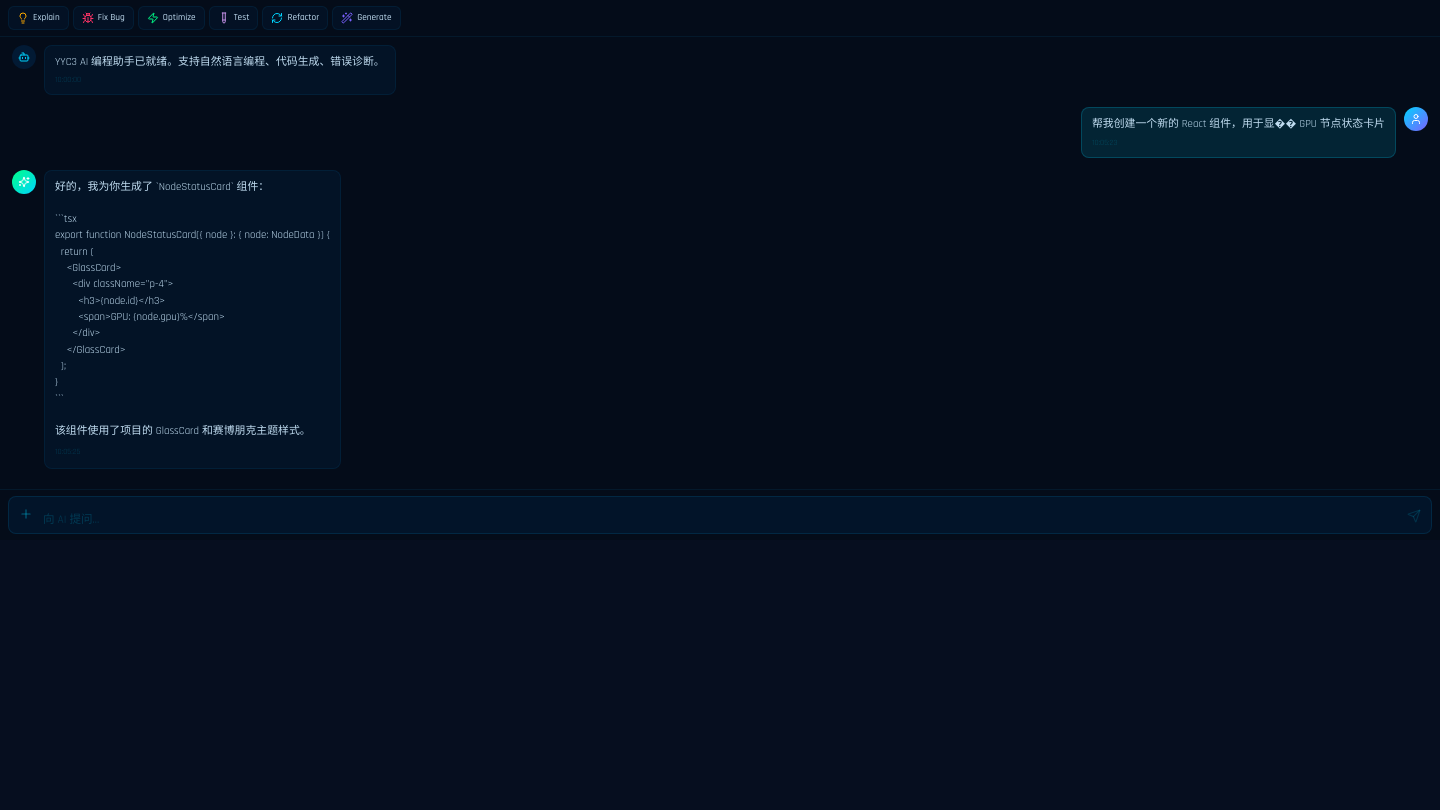
Test case: AIChatPanel › 发送消息 › Enter 发送用户消息并清空输入
In the text box with placeholder "向 AI 提问...": (720, 520) left=43, top=511, right=1397, bottom=529, type "请解释这段代码"
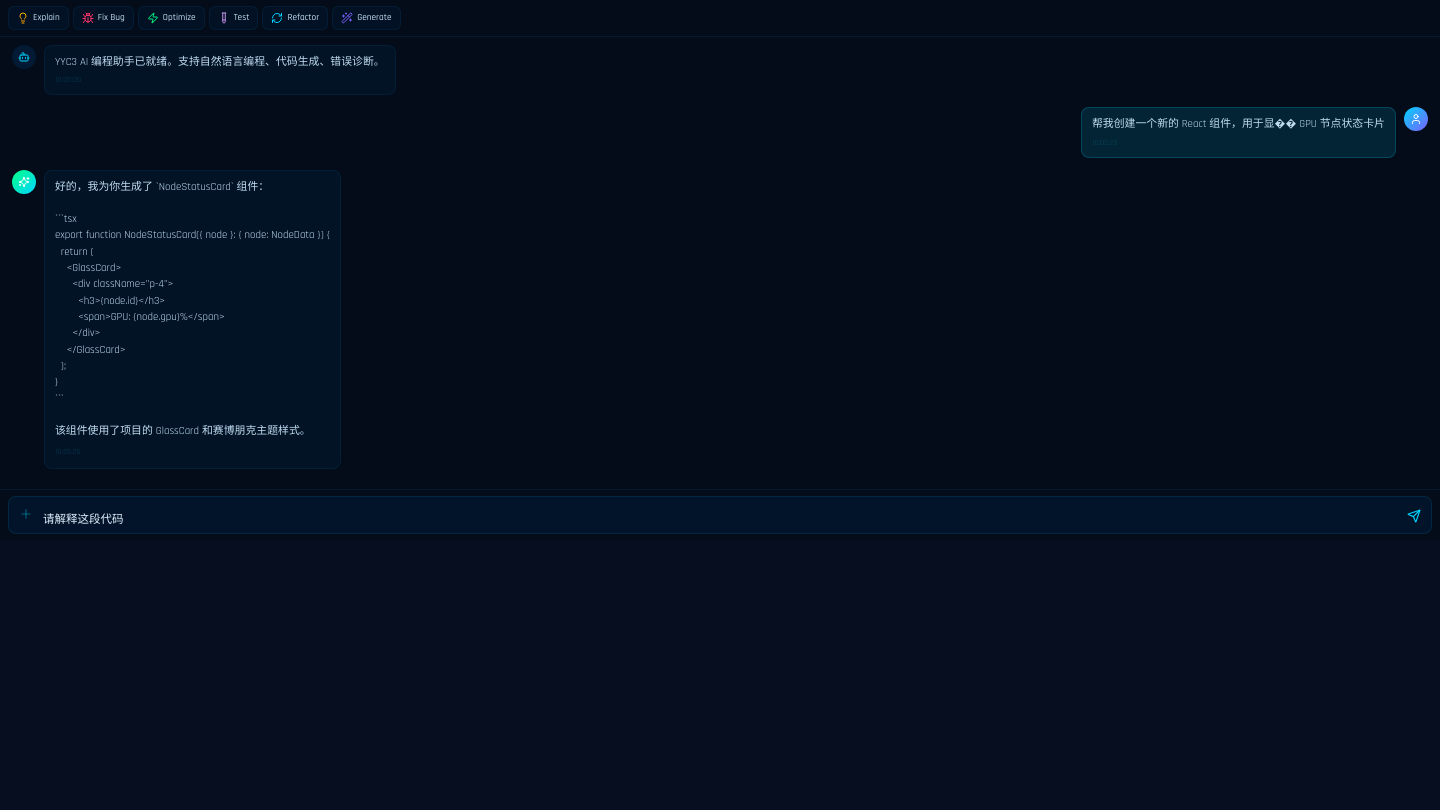
Press Enter in the text box with placeholder "向 AI 提问...", box left=43, top=511, right=1397, bottom=529
Wait 2500 ms
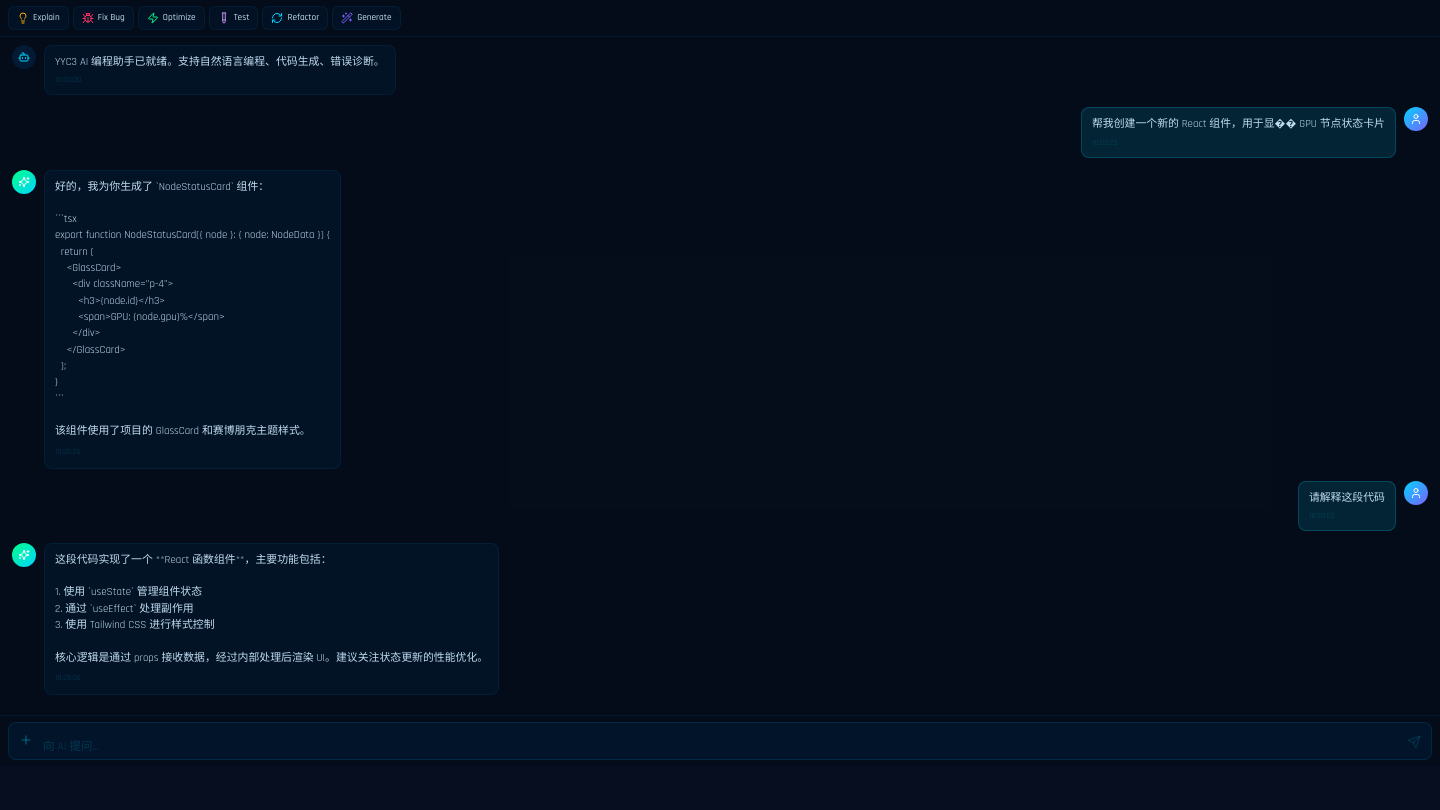
expect the text "请解释这段代码" is shown: met, box left=1309, top=490, right=1385, bottom=506
expect the text box with placeholder "向 AI 提问..." is empty: met, box left=43, top=738, right=1397, bottom=755
expect the text "React 函数组件" is shown: met, box left=55, top=553, right=488, bottom=665
